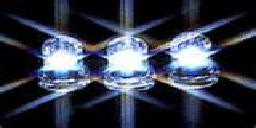LED: (161, 28, 223, 95), (98, 31, 155, 96), (35, 33, 89, 92)
